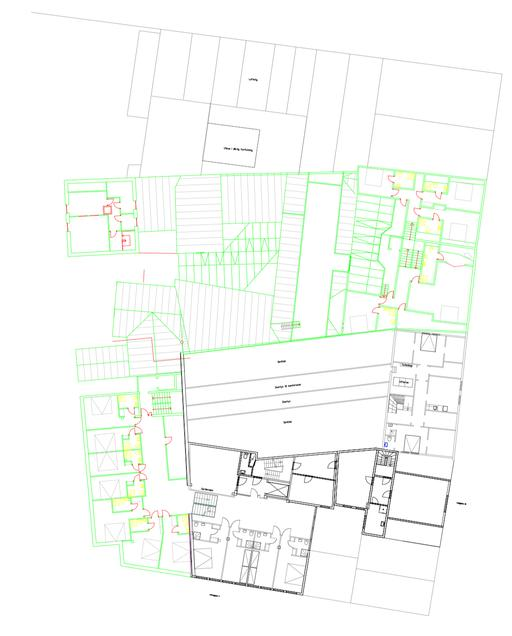room: (388, 472, 451, 526), (190, 444, 240, 495), (336, 449, 378, 509), (384, 518, 443, 548), (288, 474, 336, 508), (163, 415, 187, 480), (396, 452, 453, 479), (69, 216, 110, 253), (292, 452, 337, 480), (106, 181, 136, 214), (419, 242, 441, 285), (69, 192, 107, 216), (415, 217, 443, 242), (376, 306, 397, 331), (423, 174, 449, 193), (393, 171, 416, 189), (127, 480, 145, 497), (123, 434, 142, 450), (118, 394, 138, 409), (123, 450, 143, 465), (112, 498, 132, 512), (130, 519, 149, 532), (177, 514, 189, 534), (121, 214, 135, 231)
